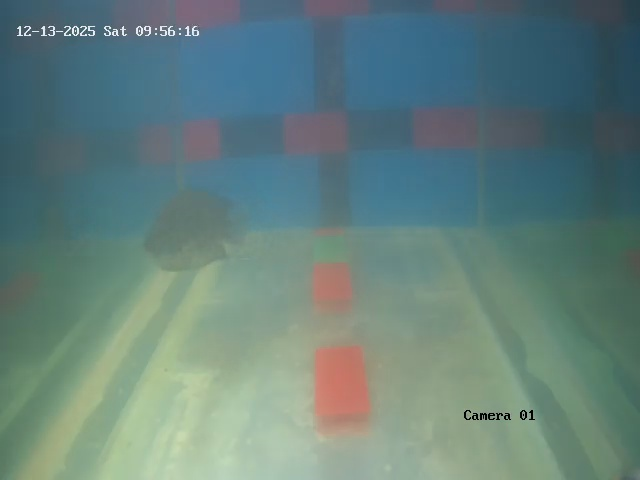fish: (130, 182, 250, 277)
